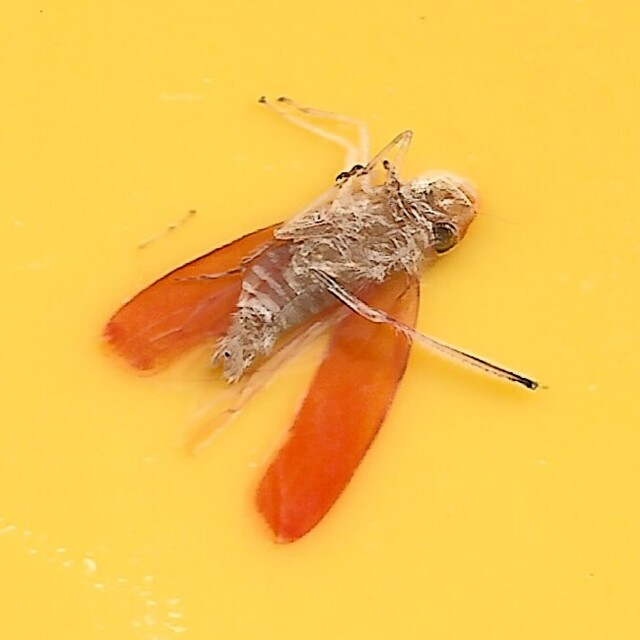Hemiptera: (98, 98, 542, 542)
